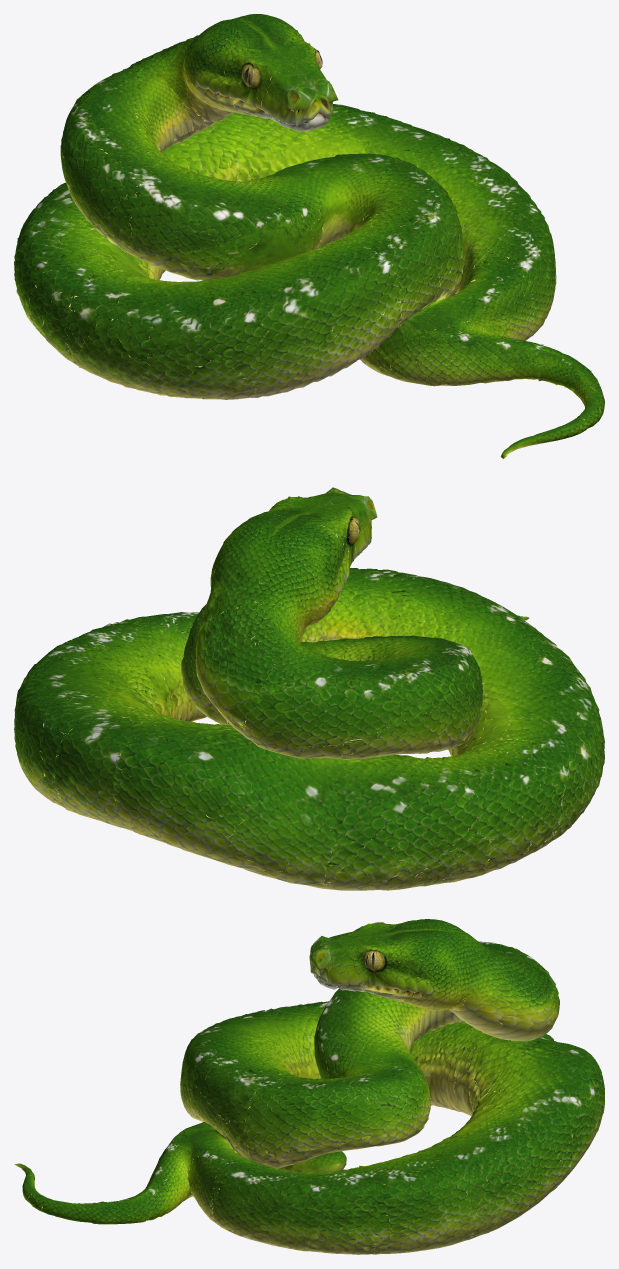
The model's file is snake.glb.
3 renders of one model, top to bottom at view 1: azimuth 30°, elevation 25°; view 2: azimuth 150°, elevation 25°; view 3: azimuth 270°, elevation 25°, orthographic. The views are drawn at different scales.
Visible parts, largest first — view 1: snake; view 2: snake; view 3: snake.
Boxes of the visible parts, x1,y1,x2,y2 form: snake: [14, 14, 604, 458]; snake: [14, 487, 604, 890]; snake: [14, 919, 604, 1254].
Bounding box in the file's own units: 0.4012 × 0.216 × 0.4984.
1 material, 1 textured.
